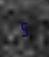five: (19, 19, 27, 37)
